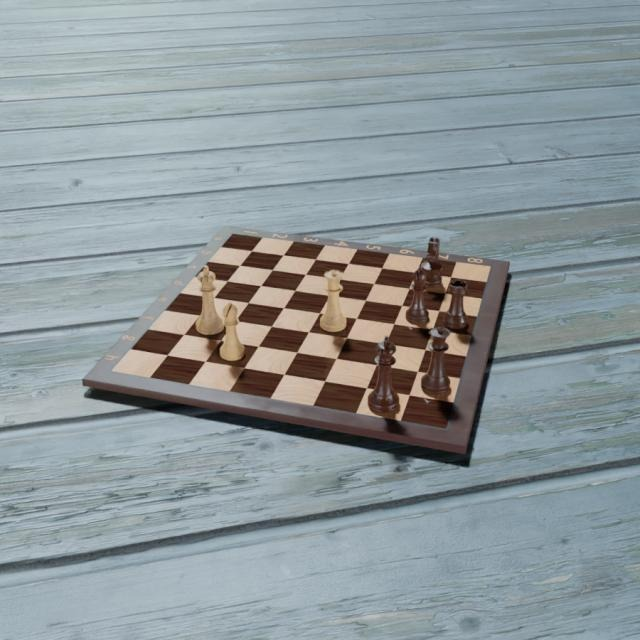black-bishop: (405, 265, 431, 326)
black-king: (368, 336, 400, 416)
black-knight: (416, 235, 444, 289)
black-queen: (420, 322, 452, 397)
black-rook: (442, 276, 470, 331)
white-bishop: (219, 301, 244, 364)
white-king: (194, 264, 226, 335)
white-queen: (320, 267, 348, 333)
